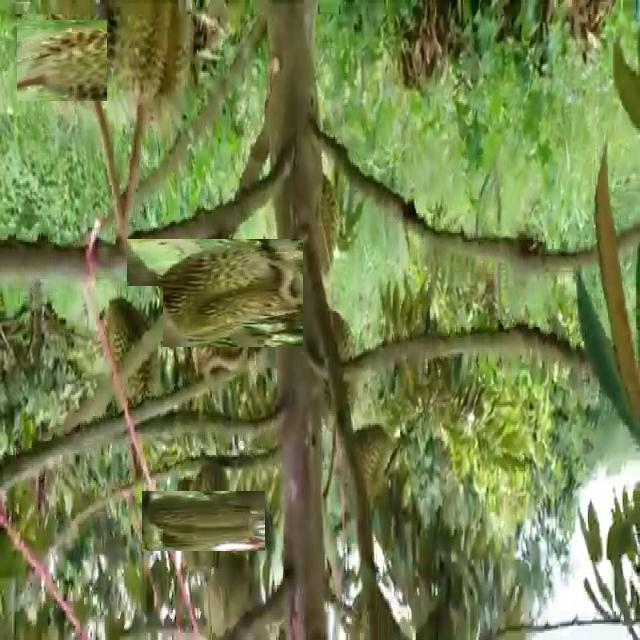durian: (144, 221, 286, 364), (107, 2, 202, 134), (26, 11, 126, 110), (158, 475, 250, 567), (313, 296, 363, 438), (105, 286, 163, 408)
